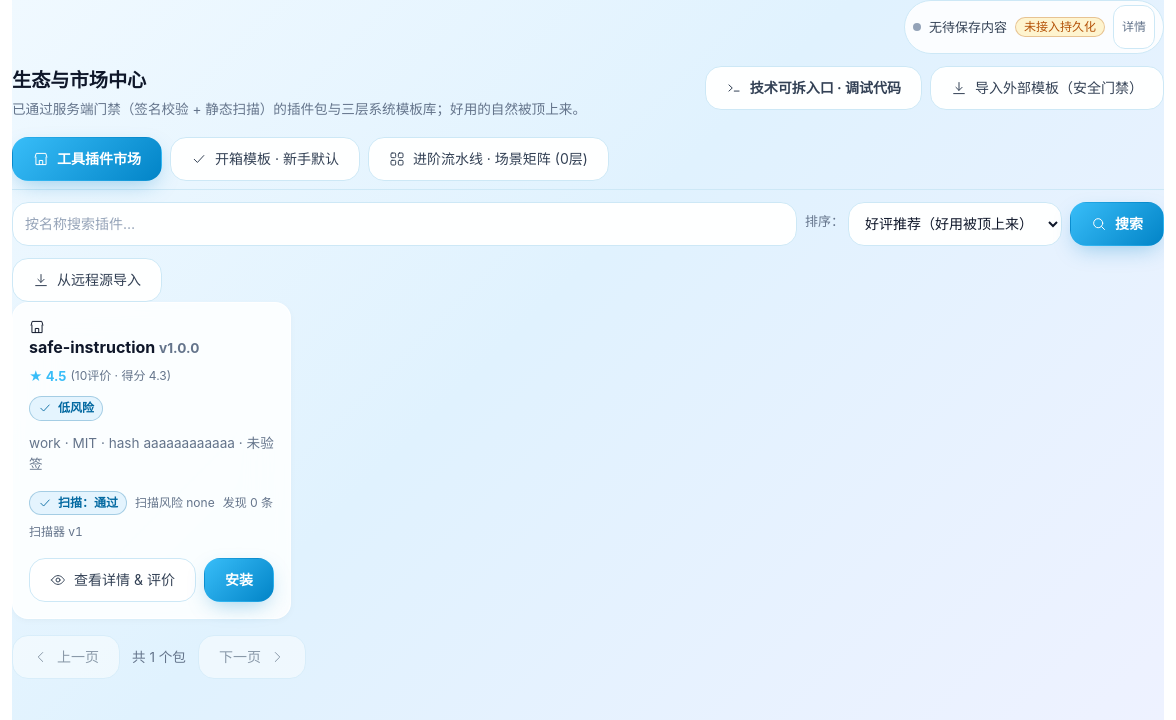
Test: 远程源导入入口 › 导入失败原样展示后端错误码，绝不假装成功
Click the button with test id "market-source-open" at (87, 280), box top-left (12, 258), bottom-right (162, 302)
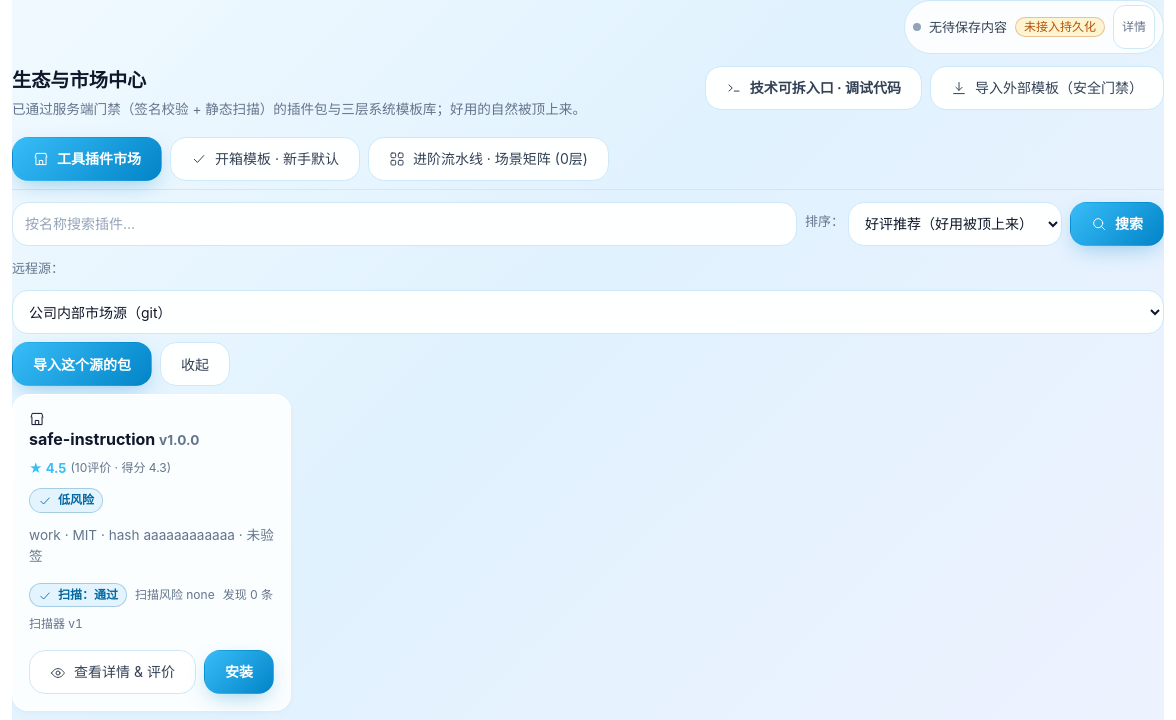
Now the dropdown with test id "market-source-select" is shown, box top-left (12, 290), bottom-right (1164, 334)
Click the button with test id "market-source-import" at (82, 364), box top-left (12, 342), bottom-right (152, 386)
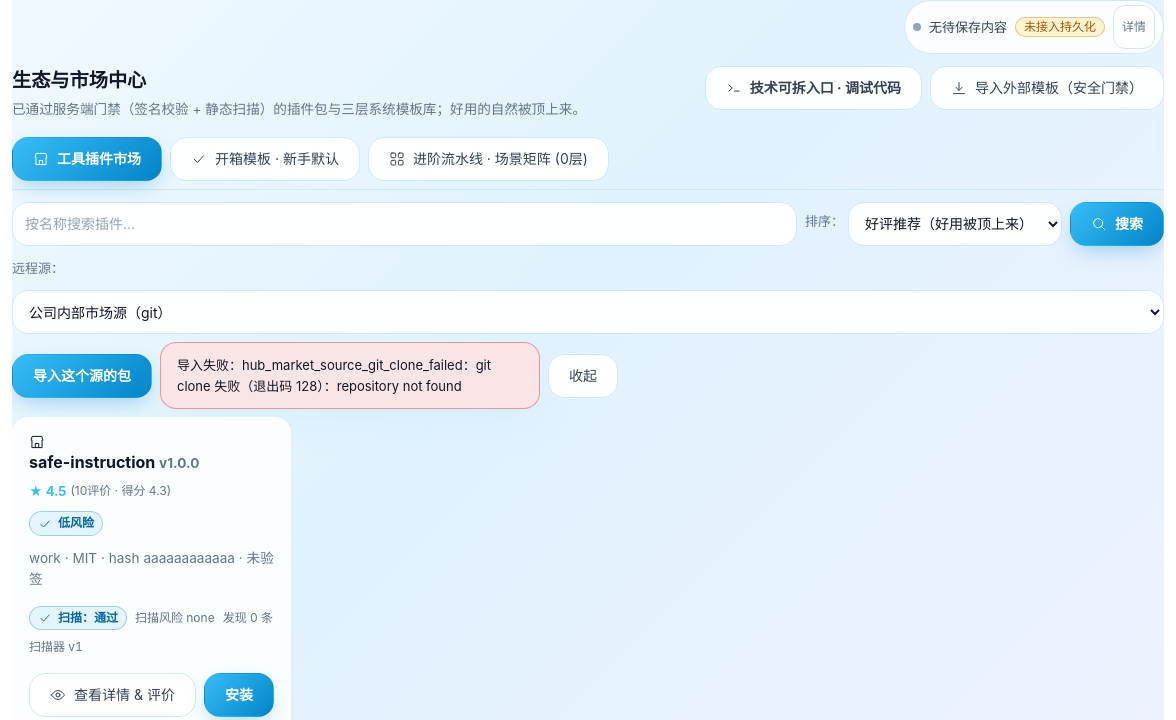
Now the message with test id "market-source-note" shows "导入失败", box top-left (177, 358), bottom-right (491, 394)
Now the message with test id "market-source-note" shows "hub_market_source_git_clone_failed", box top-left (177, 358), bottom-right (491, 394)
